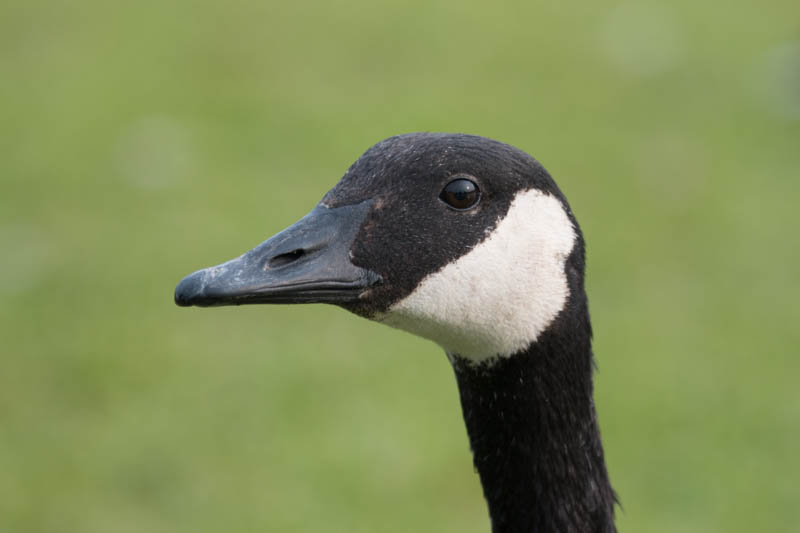goose-head: (174, 134, 586, 367)
